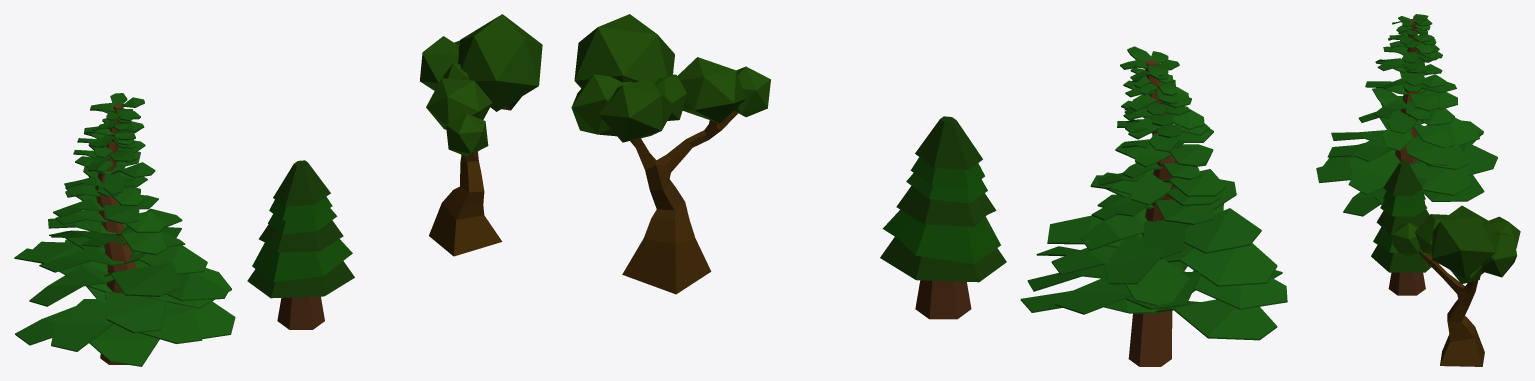
Rendered from tree 3.fbx.
3 renders of one model, left to right at view 1: azimuth 30°, elevation 25°; view 2: azimuth 150°, elevation 25°; view 3: azimuth 270°, elevation 25°, orthographic. The views are drawn at different scales.
Visible parts, largest first — view 1: Cylinder.001, Icosphere.006, Cylinder; view 2: Cylinder.001, Icosphere.006, Cylinder; view 3: Cylinder.001, Icosphere.006, Cylinder.
Boxes of the visible parts, x1,y1,x2,y2 form: Cylinder.001: [14, 93, 235, 366]; Icosphere.006: [420, 14, 542, 256]; Cylinder: [247, 160, 354, 329]; Cylinder.001: [1020, 46, 1287, 366]; Icosphere.006: [571, 14, 770, 294]; Cylinder: [880, 116, 1006, 319]; Cylinder.001: [1316, 14, 1497, 216]; Icosphere.006: [1392, 205, 1520, 366]; Cylinder: [1371, 161, 1431, 295].
Bounding box in the file's own units: 2676 × 1203 × 1096.
